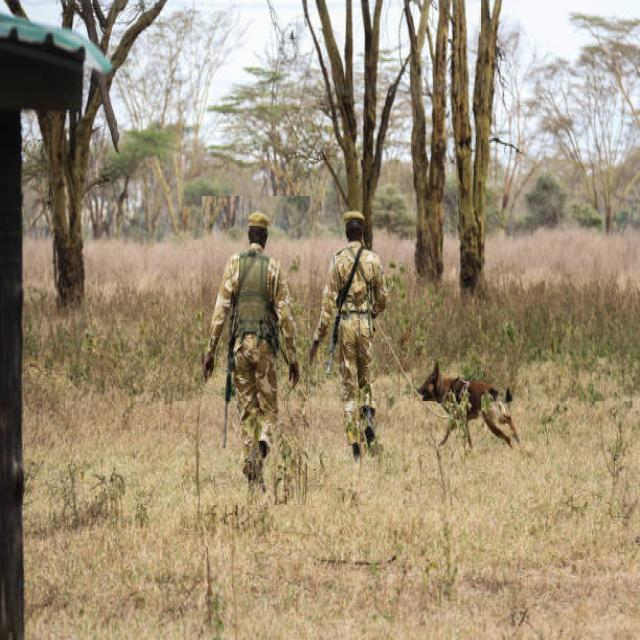Dog: (412, 359, 517, 447)
Hunter: (202, 196, 310, 505), (334, 204, 384, 476)
Rifle: (270, 295, 300, 449)
